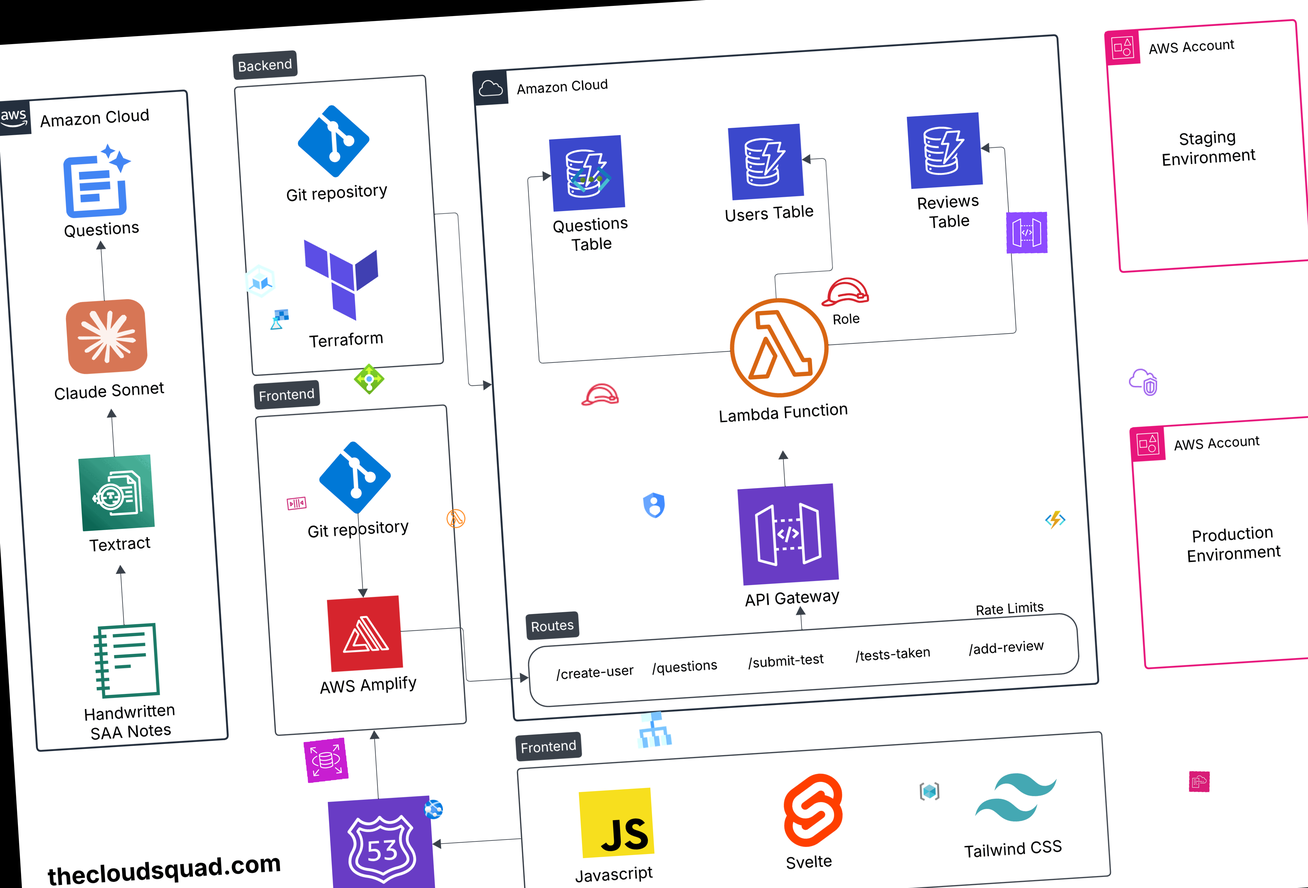aws_amazon_api_gateway: (1004, 210, 1050, 256)
aws_amazon_rds: (303, 737, 349, 783)
aws_cloudformation: (1187, 770, 1211, 793)
aws_identity_access_management_role: (577, 371, 622, 417)
aws_lambda_lambda_function: (444, 507, 468, 530)
aws_simple_queue_service_queue: (285, 492, 308, 515)
aws_vpc_virtual_private_cloud_vpc: (1125, 364, 1160, 400)
azure_app_services: (422, 798, 444, 820)
azure_function_apps: (1044, 508, 1067, 531)
azure_load_balancers: (352, 362, 386, 396)
azure_machine_learning_studio_workspaces: (268, 308, 290, 330)
azure_resource_groups: (918, 780, 941, 803)
azure_virtual_networks: (569, 157, 613, 201)
gcp_cloud_load_balancing: (630, 706, 676, 753)
gcp_google_kubernetes_engine: (238, 259, 282, 303)
gcp_identity_and_access_management: (637, 488, 672, 523)
